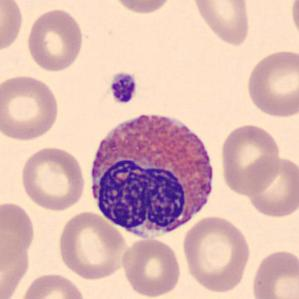Eosinophil: (82, 103, 222, 245)
Platelets: (107, 70, 139, 106)
RBC: (180, 213, 253, 293), (55, 209, 130, 281), (218, 121, 282, 197), (18, 144, 88, 212), (0, 72, 62, 142), (24, 6, 86, 74), (118, 236, 182, 298), (243, 47, 298, 119), (243, 153, 298, 220), (188, 0, 253, 48), (250, 247, 298, 299), (0, 199, 37, 261), (18, 271, 88, 299), (0, 235, 29, 299), (0, 0, 25, 54), (108, 0, 176, 15), (288, 0, 298, 45)
